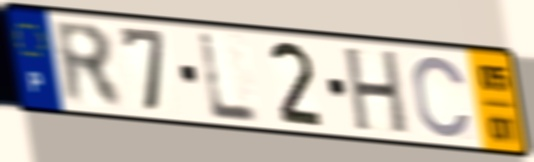2: (268, 40, 325, 130)
7: (118, 24, 170, 116)
C: (409, 53, 475, 141)
H: (343, 46, 411, 139)
L: (197, 30, 263, 125)
R: (49, 17, 128, 112)
